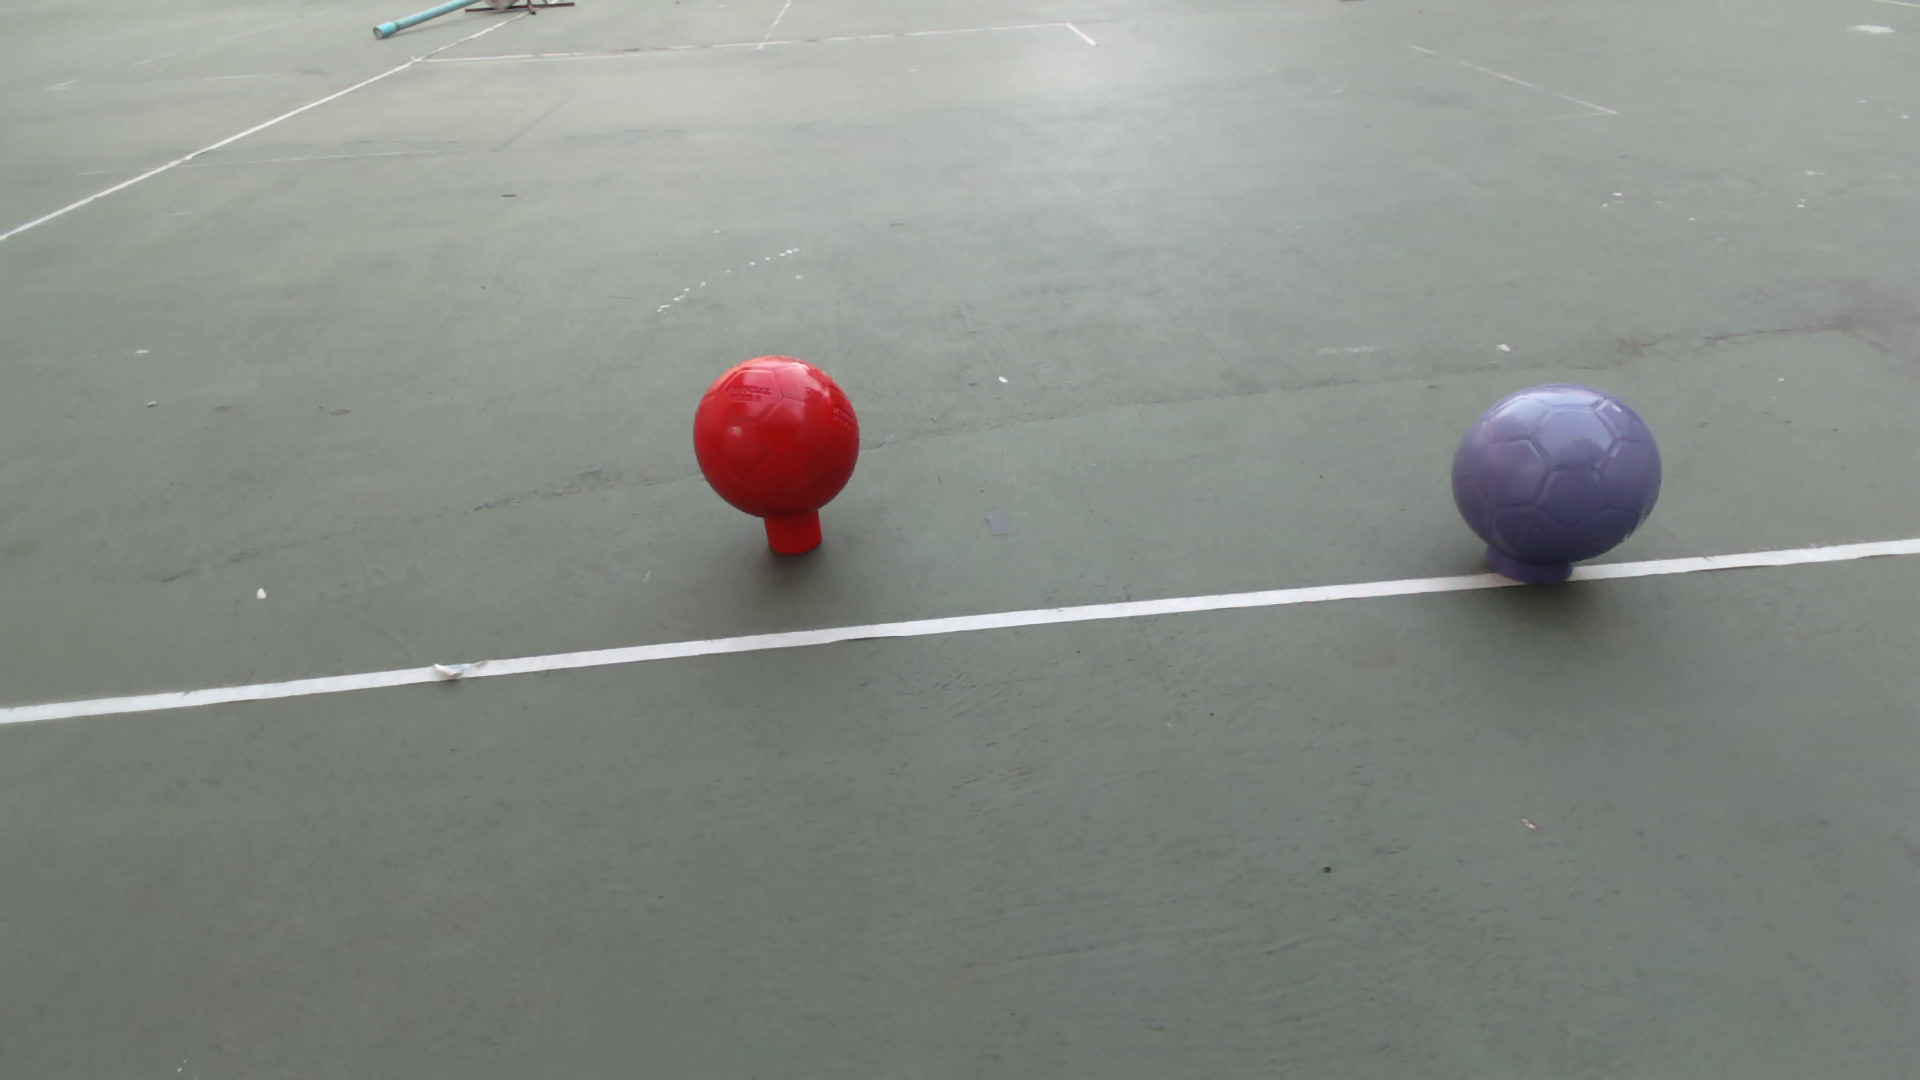Purple ball: (1449, 380, 1665, 568)
Red ball: (690, 353, 862, 520)
